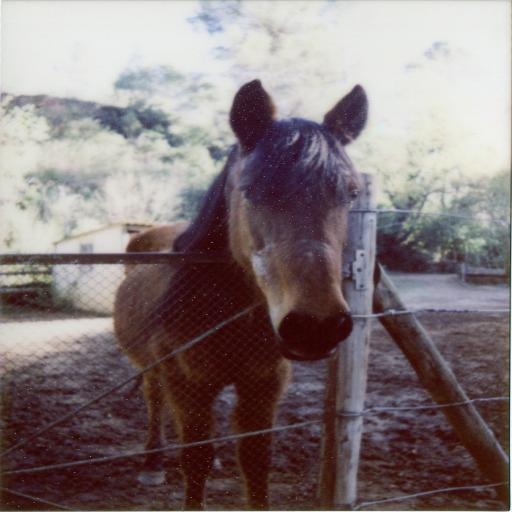horse: (112, 78, 368, 510)
